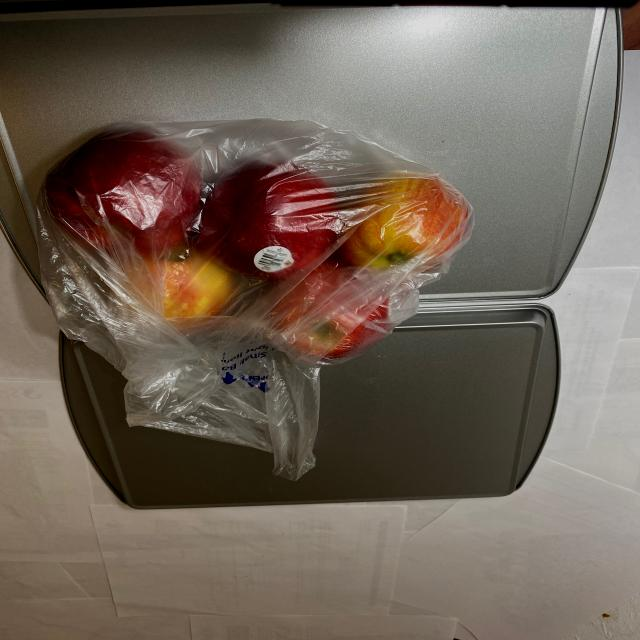apple: (37, 118, 481, 362)
